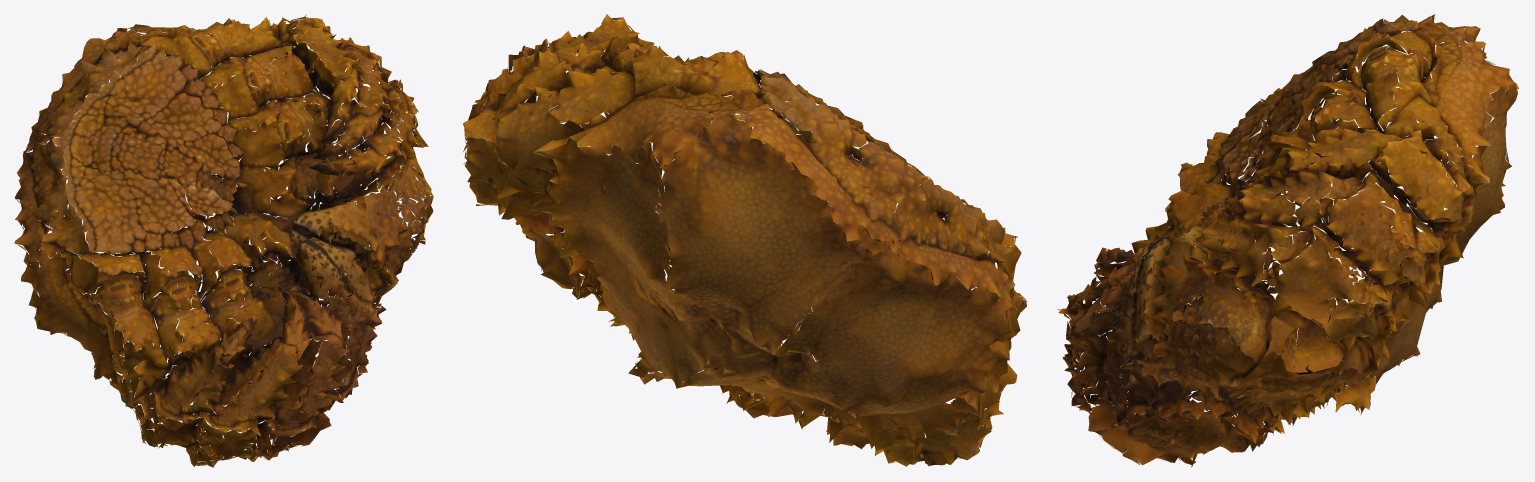
The model's file is crab_king_scan.glb.
The picture shows the model from 3 angles, left to right: view 1: azimuth 30°, elevation 25°; view 2: azimuth 150°, elevation 25°; view 3: azimuth 270°, elevation 25°; orthographic projection. The views are drawn at different scales.
Parts seen in each view (by area): view 1: Mesh_0; view 2: Mesh_0; view 3: Mesh_0.
Boxes of the visible parts, x1,y1,x2,y2 form: Mesh_0: (14,14,433,467); Mesh_0: (463,14,1027,466); Mesh_0: (1057,14,1518,467).
Size of the model in its own units: 0.169 by 0.1467 by 0.1402.
Materials: 1 (1 with a texture image).
